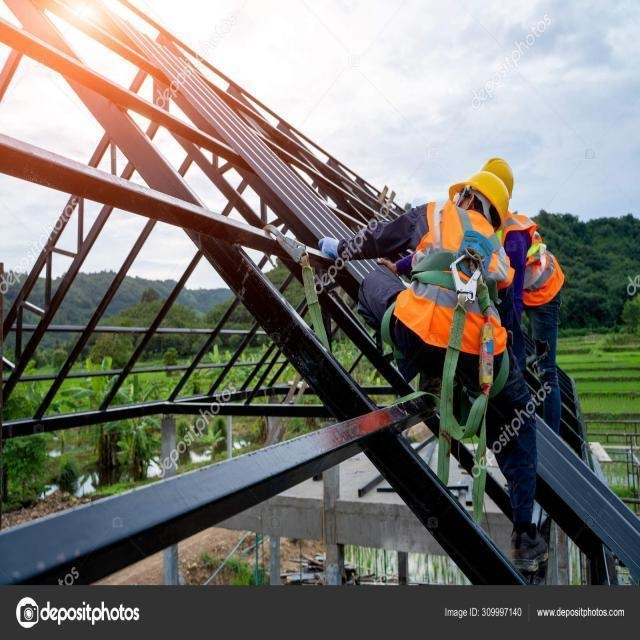Arnes_seguridad: (434, 202, 506, 341)
